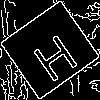H: (25, 25, 81, 84)
